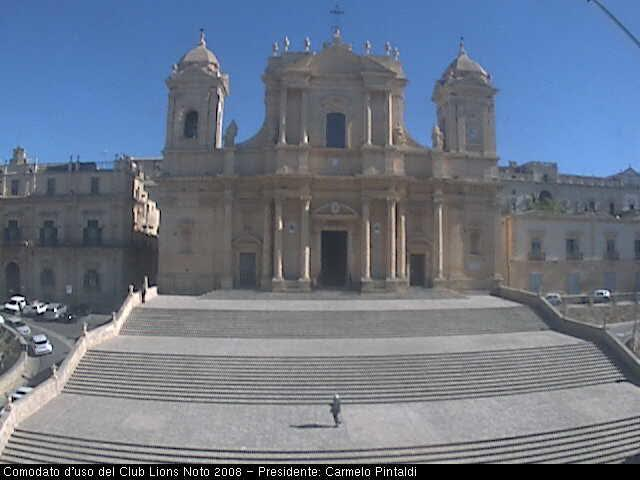person: (325, 392, 345, 427)
